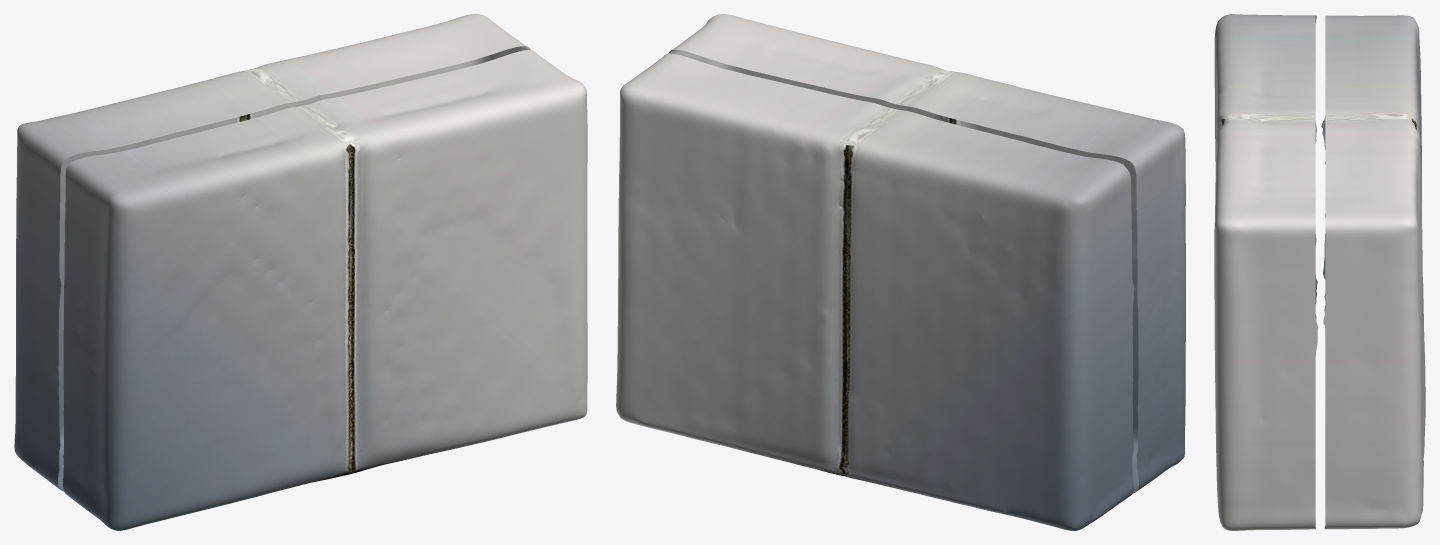
Rendered from kfl-2263.glb.
The picture shows the model from 3 angles, left to right: view 1: azimuth 30°, elevation 25°; view 2: azimuth 150°, elevation 25°; view 3: azimuth 270°, elevation 25°; orthographic projection. The views are drawn at different scales.
Parts seen in each view (by area): view 1: geometry_0; view 2: geometry_0; view 3: geometry_0.
Part boxes in pixels (x1,y1,x2,y2): geometry_0: [14, 14, 587, 530]; geometry_0: [616, 14, 1185, 530]; geometry_0: [1214, 14, 1425, 530].
Bounding box in the file's own units: 0.9972 × 0.6739 × 0.4135.
Materials: 1 (1 with a texture image).
